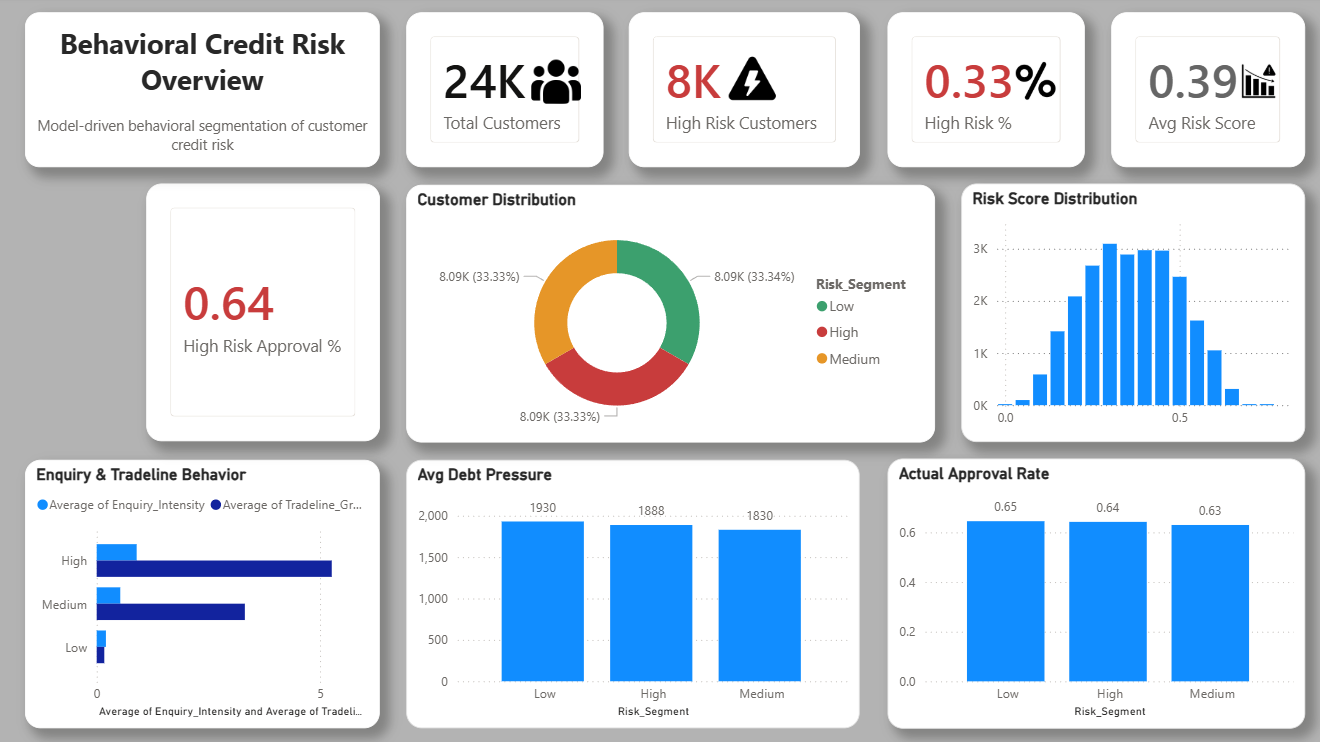

This screenshot's page, from the dashboard's own definition file:
{"tool":"powerbi","page":{"name":"Behavioral Risk Overview","canvas":[1280,720],"ordinal":0},"visuals":[{"type":"cardVisual","fields":{"Data":["credit_risk_behavioral_final.Total Customers"]},"box":[392.1,15.7,190.6,149.6],"z":0},{"type":"cardVisual","fields":{"Data":["credit_risk_behavioral_final.High Risk Customers"]},"box":[606.8,15.7,223.2,149.6],"z":1000},{"type":"cardVisual","fields":{"Data":["credit_risk_behavioral_final.High Risk %"]},"box":[856.6,15.7,190.6,149.6],"z":2000},{"type":"cardVisual","fields":{"Data":["credit_risk_behavioral_final.Avg Risk Score"]},"box":[1072.5,15.7,187,149.6],"z":3000},{"type":"clusteredBarChart","title":"Enquiry & Tradeline Behavior","fields":{"Category":["credit_risk_behavioral_final.Risk_Segment"],"Y":["Avg(credit_risk_behavioral_final.Enquiry_Intensity)","Avg(credit_risk_behavioral_final.Tradeline_Growth)"]},"box":[24.1,447.6,342.6,259.4],"z":4000},{"type":"clusteredColumnChart","title":"Avg Debt Pressure","fields":{"Category":["credit_risk_behavioral_final.Risk_Segment"],"Y":["Avg(credit_risk_behavioral_final.Debt_Pressure)"]},"box":[392.1,447.6,437.9,259.4],"z":5000},{"type":"donutChart","title":"Customer Distribution","fields":{"Category":["credit_risk_behavioral_final.Risk_Segment"],"Y":["CountNonNull(credit_risk_behavioral_final.Client_ID)"]},"box":[392.1,182.2,510.3,248.5],"z":6000},{"type":"clusteredColumnChart","title":"Risk Score Distribution","fields":{"Category":["credit_risk_behavioral_final.Behavioral_Risk_Score (bins)"],"Y":["CountNonNull(credit_risk_behavioral_final.Client_ID)"]},"box":[927.8,181,331.8,249.7],"z":7000},{"type":"clusteredColumnChart","title":"Actual Approval Rate","fields":{"Category":["credit_risk_behavioral_final.Risk_Segment"],"Y":["Avg(credit_risk_behavioral_final.Target)"]},"box":[856.5,446.9,403.4,260.7],"z":8000},{"type":"cardVisual","fields":{"Data":["credit_risk_behavioral_final.High Risk Approval %"]},"box":[141.2,181,225.6,248.5],"z":9000},{"type":"textbox","box":[24.1,15.7,342.6,149.6],"z":10000},{"type":"image","box":[512.7,51.9,48.3,61.5],"z":11000},{"type":"image","box":[967.6,62.7,63.9,38.6],"z":12000},{"type":"image","box":[1198,42.2,33.8,79.6],"z":13000},{"type":"image","box":[688.9,56.7,74.8,45.8],"z":14000}]}

Visuals, with their boxes in screenshot pixels (x1, y1, x2, y2), scaled from the page's 1280x720 canvas onto the 1320x742 screenshot:
cardVisual - credit_risk_behavioral_final.Total Customers: (404,16,601,170)
cardVisual - credit_risk_behavioral_final.High Risk Customers: (626,16,856,170)
cardVisual - credit_risk_behavioral_final.High Risk %: (883,16,1080,170)
cardVisual - credit_risk_behavioral_final.Avg Risk Score: (1106,16,1299,170)
"Enquiry & Tradeline Behavior" clusteredBarChart: (25,461,378,729)
"Avg Debt Pressure" clusteredColumnChart: (404,461,856,729)
"Customer Distribution" donutChart: (404,188,931,444)
"Risk Score Distribution" clusteredColumnChart: (957,187,1299,444)
"Actual Approval Rate" clusteredColumnChart: (883,461,1299,729)
cardVisual - credit_risk_behavioral_final.High Risk Approval %: (146,187,378,443)
textbox: (25,16,378,170)
image: (529,53,579,117)
image: (998,65,1064,104)
image: (1235,43,1270,126)
image: (710,58,788,106)
